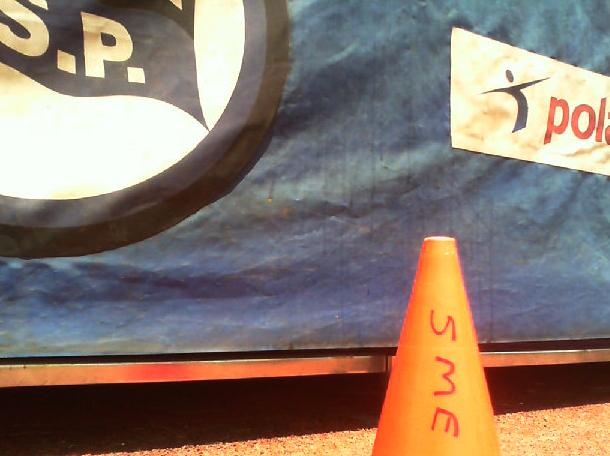0 cone: (366, 236, 503, 456)
